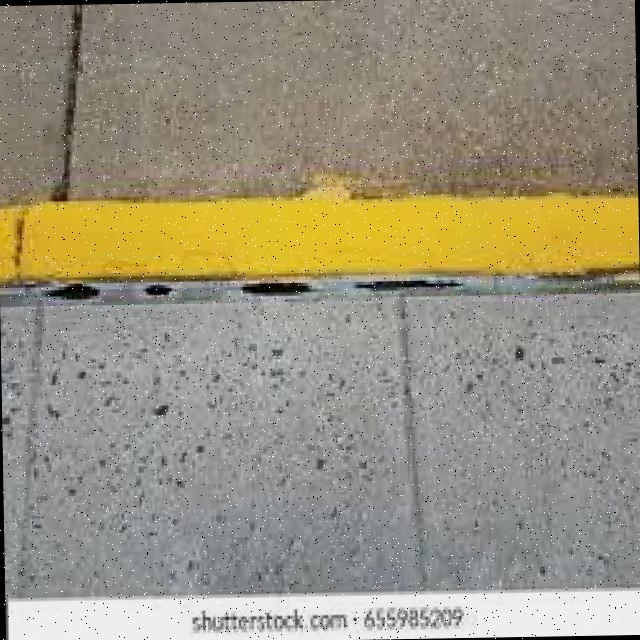curb: (19, 192, 640, 282)
